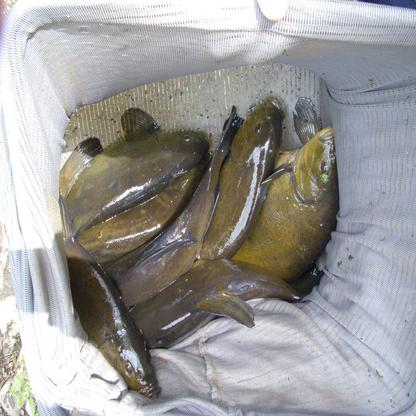fish: (51, 104, 212, 236), (61, 237, 163, 404)
